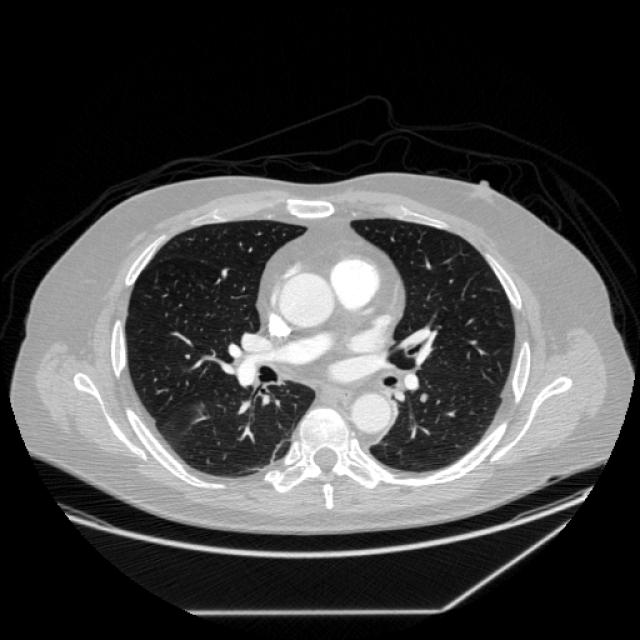nodule: (411, 385, 434, 407)
